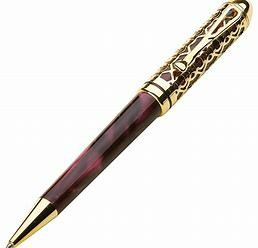pen: (11, 1, 243, 245)
